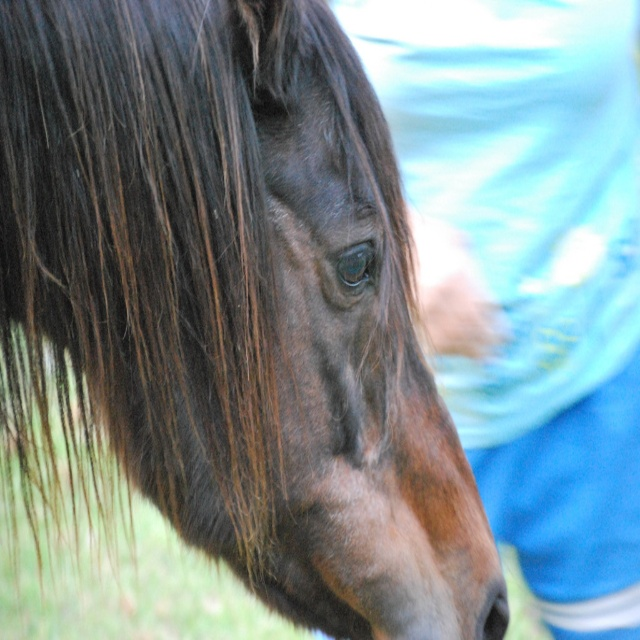Horse: (0, 0, 510, 640)
